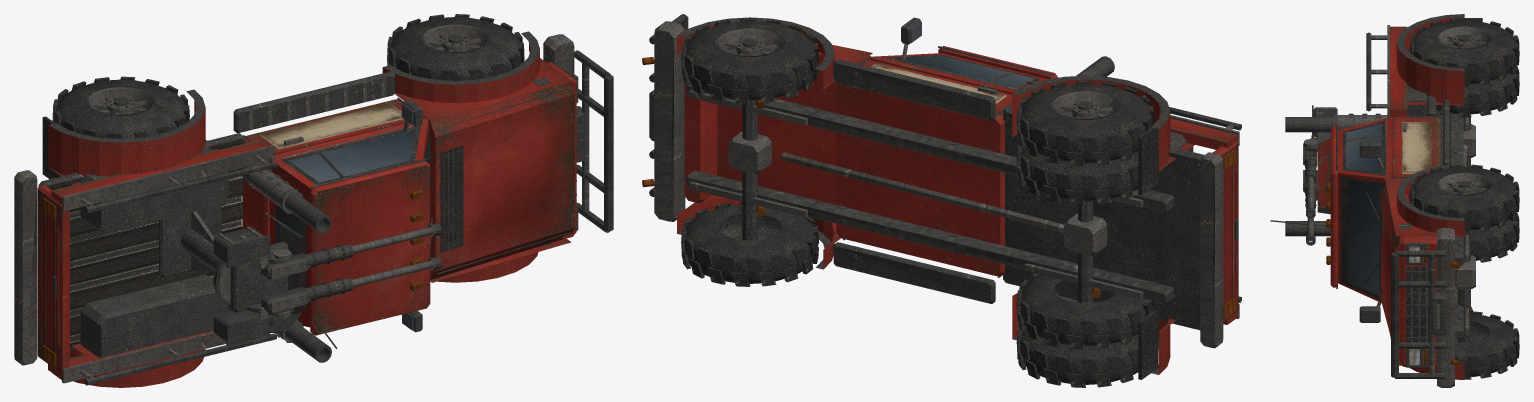
Rendered from PVDually_Model.obj.
3 views of the same model, side by side, from view 1: azimuth 30°, elevation 25°; view 2: azimuth 150°, elevation 25°; view 3: azimuth 270°, elevation 25° (orthographic). The views are drawn at different scales.
Parts seen in each view (by area): view 1: hood-top, cab-roof, bed-wheel-tub, fender-flare, bed-floor, bed-cap, tailgate, rear-bumper, tire-front-left, tire-rear-left-outer, hood, side-step (+40 smaller); view 2: cab-lower, bed-floor, frame-rail, side-step, hood, tire-front-right, front-bumper, tire-front-left, tire-rear-left-outer, rear-bumper, tire-rear-right-inner, fender-flare (+32 smaller); view 3: fender-flare, windshield, tire-front-left, tire-rear-left-outer, front-bumper, tire-front-right, cab-shell, door-ivory, grille-recess, fender-lip, frame-rail, nose (+54 smaller).
Part boxes in pixels (x1=…): hood-top: x1=435, y1=94, x2=574, y2=270; cab-roof: x1=310, y1=160, x2=430, y2=335; bed-wheel-tub: x1=80, y1=145, x2=228, y2=357; fender-flare: x1=48, y1=44, x2=539, y2=387; bed-floor: x1=38, y1=133, x2=244, y2=350; bed-cap: x1=62, y1=145, x2=274, y2=383; tailgate: x1=37, y1=185, x2=69, y2=373; rear-bumper: x1=14, y1=170, x2=37, y2=365; tire-front-left: x1=390, y1=17, x2=522, y2=80; tire-rear-left-outer: x1=56, y1=79, x2=186, y2=138; hood: x1=423, y1=71, x2=574, y2=279; side-step: x1=233, y1=71, x2=395, y2=133; cab-lower: x1=836, y1=58, x2=1012, y2=276; bed-floor: x1=1003, y1=107, x2=1204, y2=330; frame-rail: x1=686, y1=82, x2=1174, y2=303; side-step: x1=833, y1=59, x2=995, y2=303; hood: x1=717, y1=52, x2=870, y2=204; tire-front-right: x1=684, y1=204, x2=816, y2=283; front-bumper: x1=654, y1=21, x2=685, y2=221; tire-front-left: x1=684, y1=21, x2=816, y2=100; tire-rear-left-outer: x1=1020, y1=83, x2=1152, y2=163; rear-bumper: x1=1200, y1=152, x2=1223, y2=348; tire-rear-right-inner: x1=1020, y1=275, x2=1151, y2=346; fender-flare: x1=677, y1=22, x2=1170, y2=374; fender-flare: x1=1396, y1=17, x2=1464, y2=379; windshield: x1=1348, y1=180, x2=1382, y2=295; tire-front-left: x1=1412, y1=166, x2=1517, y2=230; tire-rear-left-outer: x1=1413, y1=20, x2=1517, y2=83; front-bumper: x1=1437, y1=228, x2=1454, y2=387; tire-front-right: x1=1455, y1=313, x2=1517, y2=376; cab-shell: x1=1338, y1=117, x2=1391, y2=302; door-ivory: x1=1402, y1=122, x2=1431, y2=174; grille-recess: x1=1405, y1=266, x2=1428, y2=342; fender-lip: x1=1397, y1=14, x2=1464, y2=221; frame-rail: x1=1449, y1=114, x2=1463, y2=338; nose: x1=1399, y1=236, x2=1436, y2=366.
Bounding box in the file's own units: 68.82 × 29.92 × 32.56.
1 material, 1 textured.
